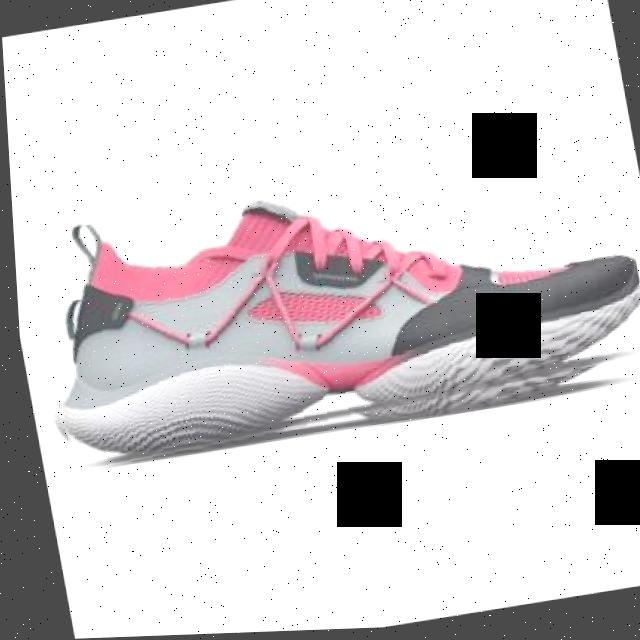shoe: (16, 144, 640, 475)
